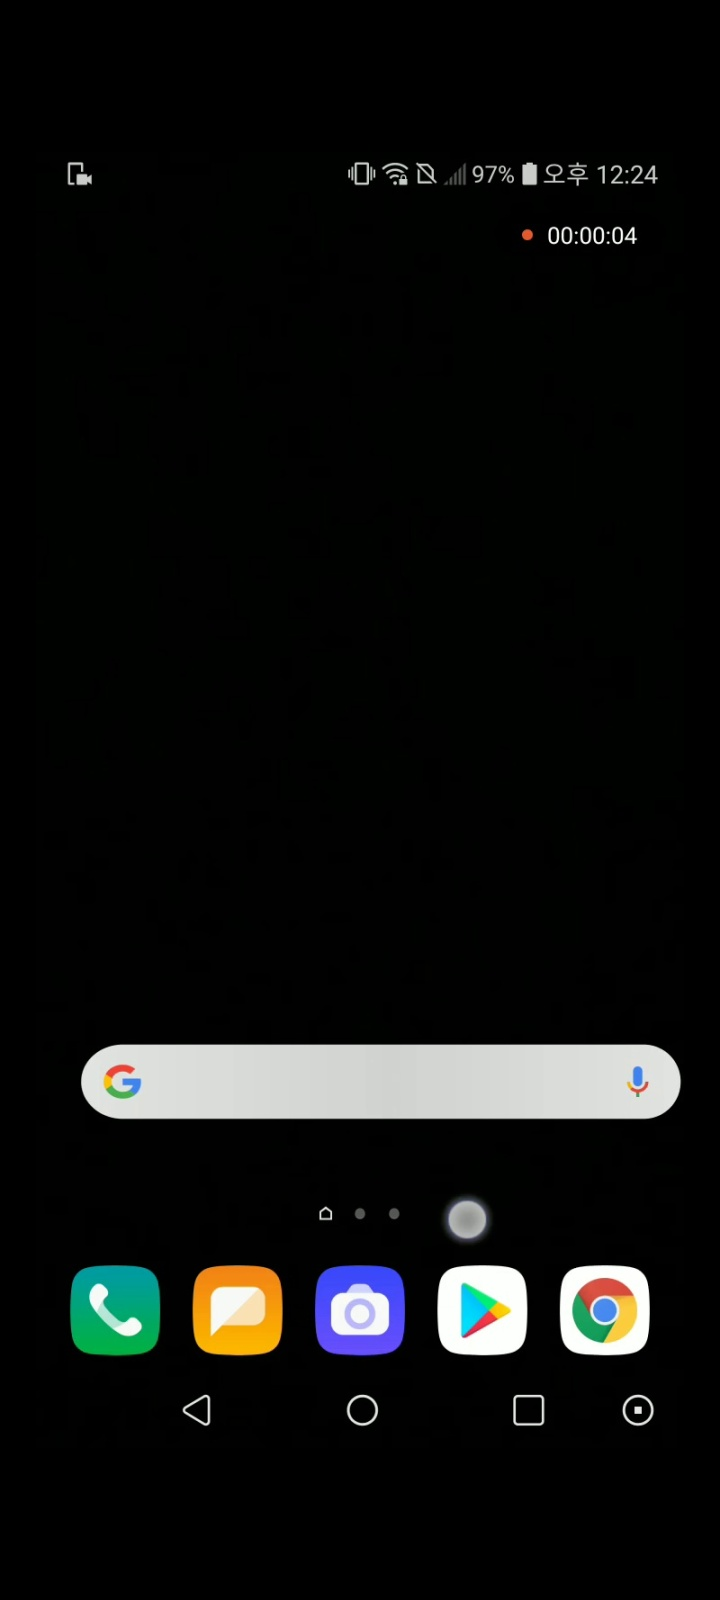Cursor: (446, 1197, 491, 1242)
